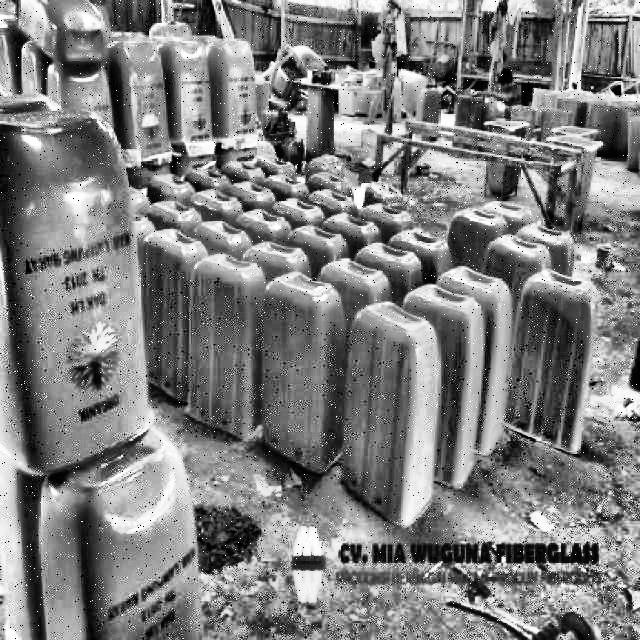Dustbin: (1, 114, 164, 480), (29, 433, 203, 639), (338, 301, 444, 534), (493, 268, 609, 457)
